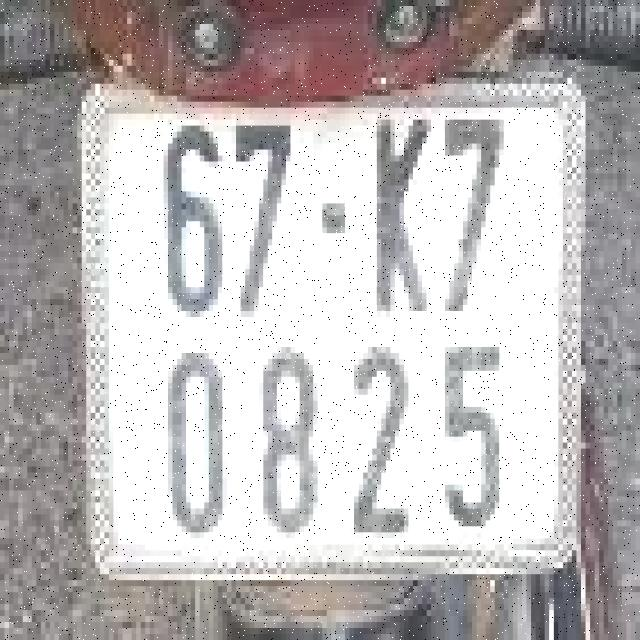0: (154, 326, 227, 529)
2: (343, 341, 415, 532)
5: (436, 341, 513, 520)
6: (161, 120, 234, 311)
7: (434, 117, 511, 320), (227, 114, 295, 317)
8: (254, 335, 322, 532)
K: (370, 114, 433, 317)
